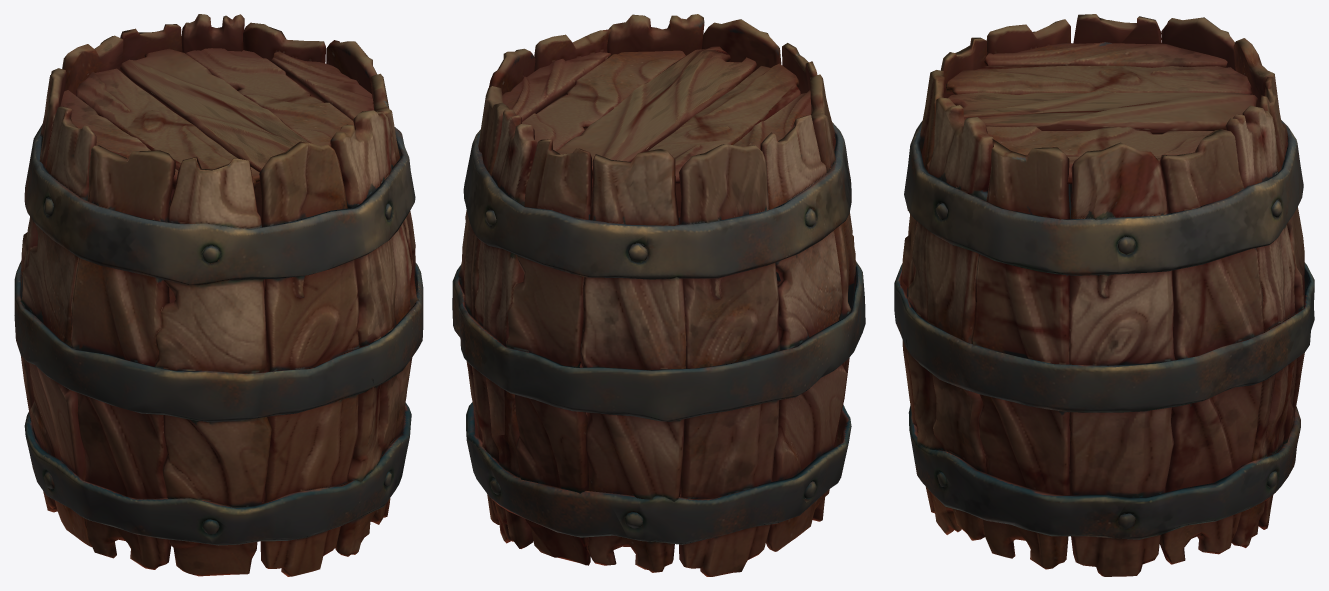
Rendered from barrel.glb.
The picture shows the model from 3 angles, left to right: view 1: azimuth 30°, elevation 25°; view 2: azimuth 150°, elevation 25°; view 3: azimuth 270°, elevation 25°; orthographic projection.
Parts seen in each view (by area): view 1: Barrel; view 2: Barrel; view 3: Barrel.
Boxes of the visible parts, x1=… form: Barrel: x1=14, y1=14, x2=423, y2=576; Barrel: x1=452, y1=14, x2=865, y2=576; Barrel: x1=894, y1=14, x2=1314, y2=576.
Size of the model in its own units: 10.76 by 12.46 by 10.95.
1 material, 1 textured.
